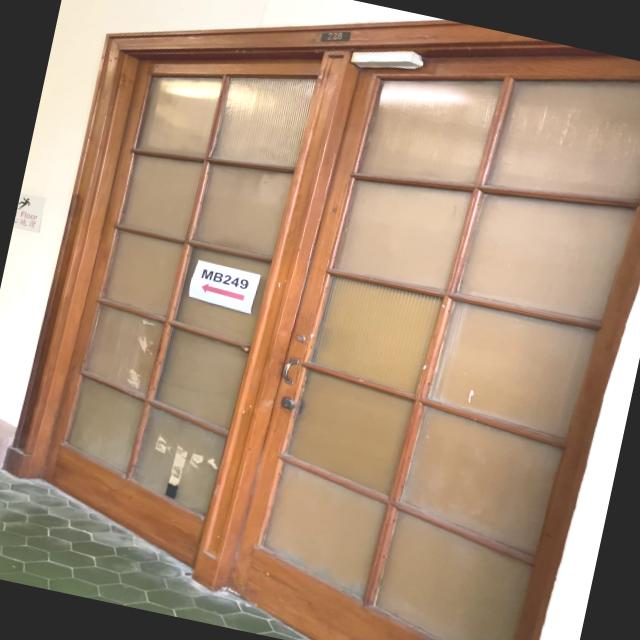room228: (318, 24, 352, 48)
